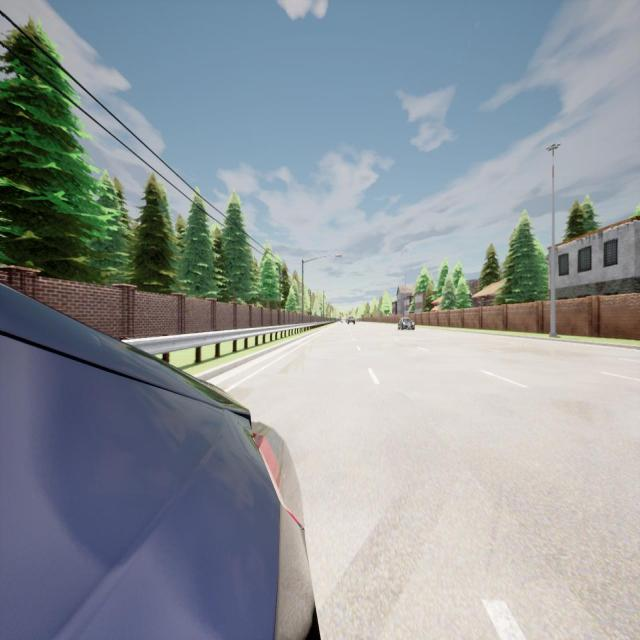Vehicle: (0, 284, 320, 637), (397, 317, 415, 332), (348, 316, 355, 324), (340, 319, 344, 323)
